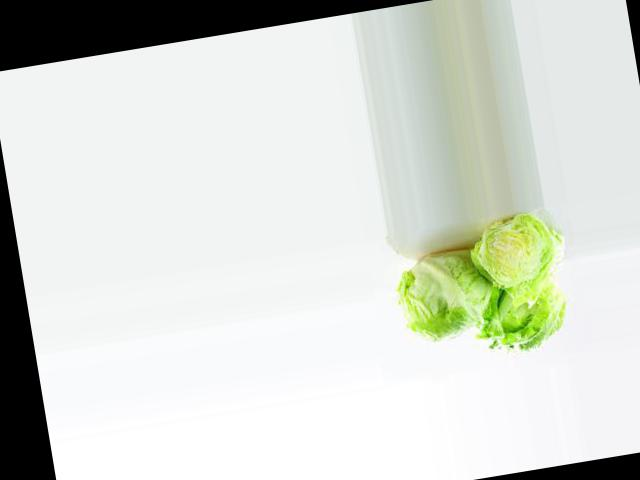lettuce: (368, 237, 543, 387)
